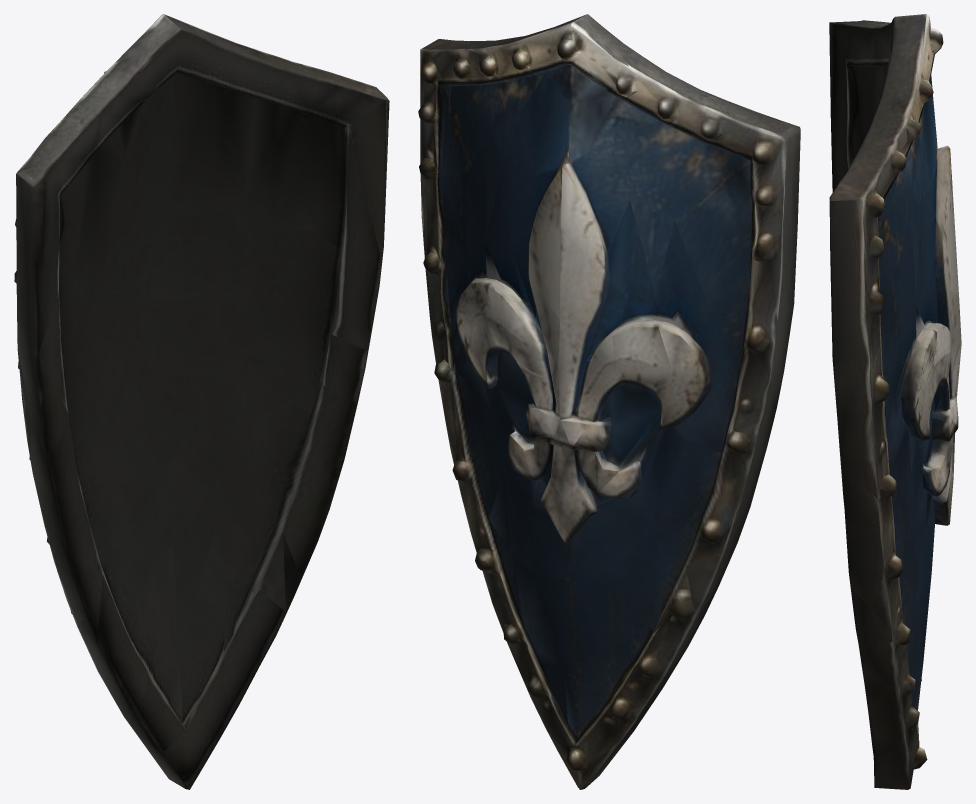
File: kite_blue_fleur.glb
3 renders of one model, left to right at view 1: azimuth 30°, elevation 25°; view 2: azimuth 150°, elevation 25°; view 3: azimuth 270°, elevation 25°, orthographic. The views are drawn at different scales.
Visible parts, largest first — view 1: kite_blue_fleur; view 2: kite_blue_fleur; view 3: kite_blue_fleur.
Part boxes in pixels (x1,y1,x2,y2): kite_blue_fleur: (14,14,389,789); kite_blue_fleur: (418,14,800,789); kite_blue_fleur: (829,14,961,789).
Size of the model in its own units: 0.4046 by 0.8155 by 0.1261.
Materials: 1 (1 with a texture image).
